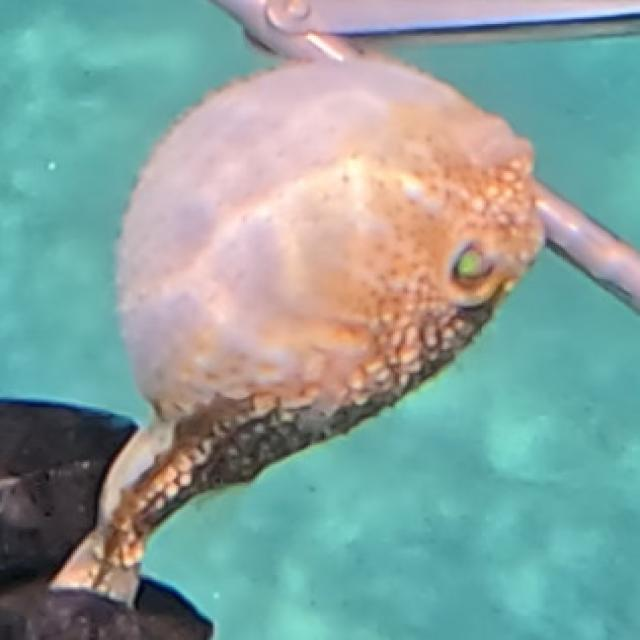Balik: (55, 59, 542, 600)
